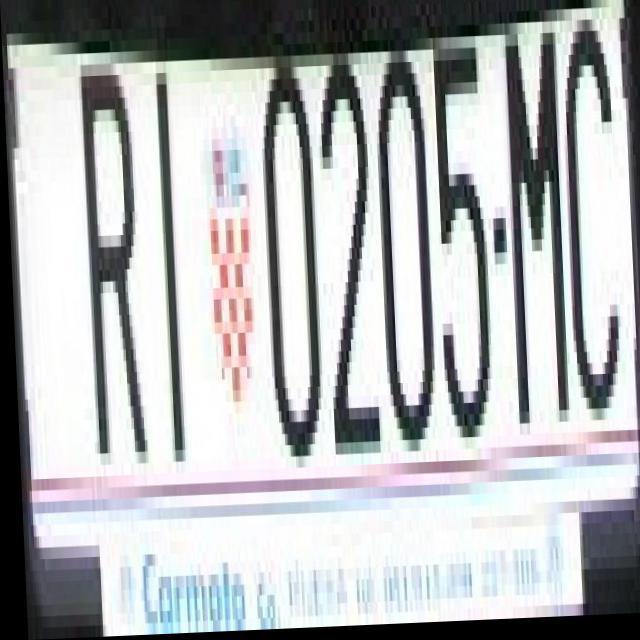0: (253, 69, 325, 471), (372, 54, 436, 456)
2: (314, 44, 379, 458)
5: (424, 40, 496, 442)
C: (556, 13, 626, 427)
M: (498, 15, 571, 429)
